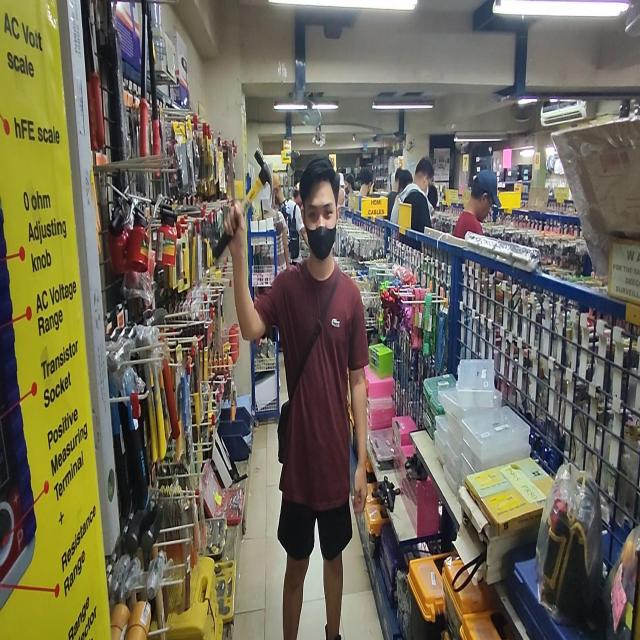hammer: (212, 147, 273, 261)
